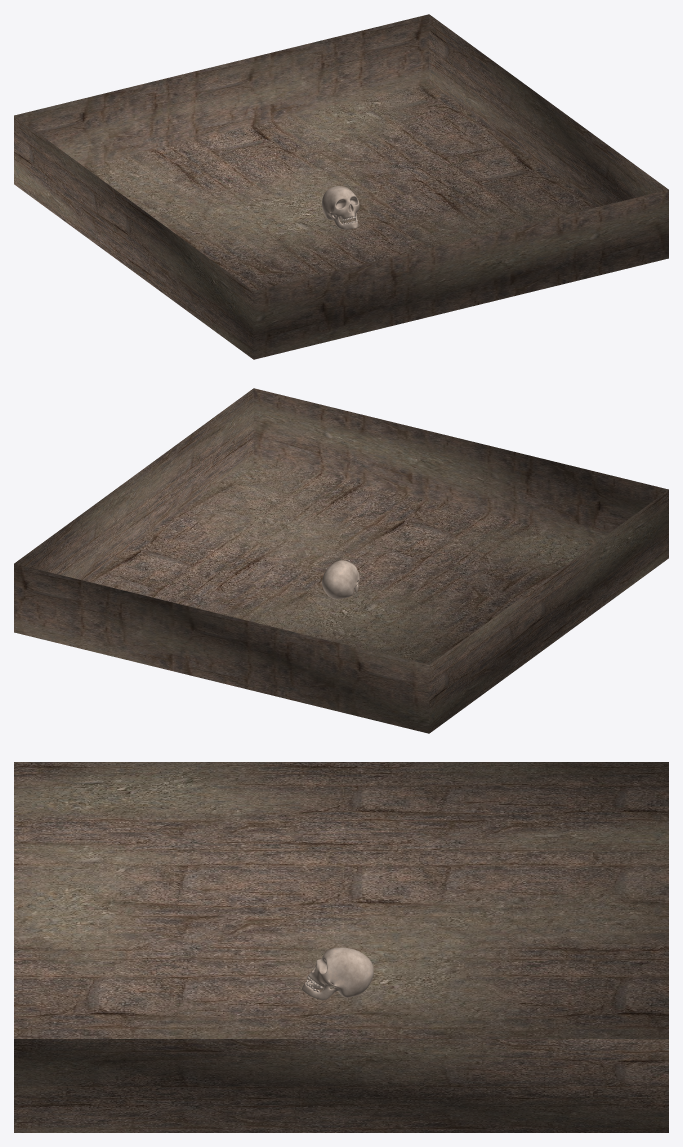
3 views of the same model, one above another, from view 1: azimuth 30°, elevation 25°; view 2: azimuth 150°, elevation 25°; view 3: azimuth 270°, elevation 25° (orthographic). The views are drawn at different scales.
Parts seen in each view (by area): view 1: Ground, Plane; view 2: Ground, Plane; view 3: Ground, Plane.
Boxes of the visible parts, <box> form: Ground: <box>14,14,668,359</box>; Plane: <box>322,186,359,229</box>; Ground: <box>14,388,668,733</box>; Plane: <box>322,560,359,599</box>; Ground: <box>14,762,668,1132</box>; Plane: <box>302,947,373,999</box>.
Bounding box in the file's own units: 5.13 × 0.812 × 5.13.
3 materials, 3 textured.
